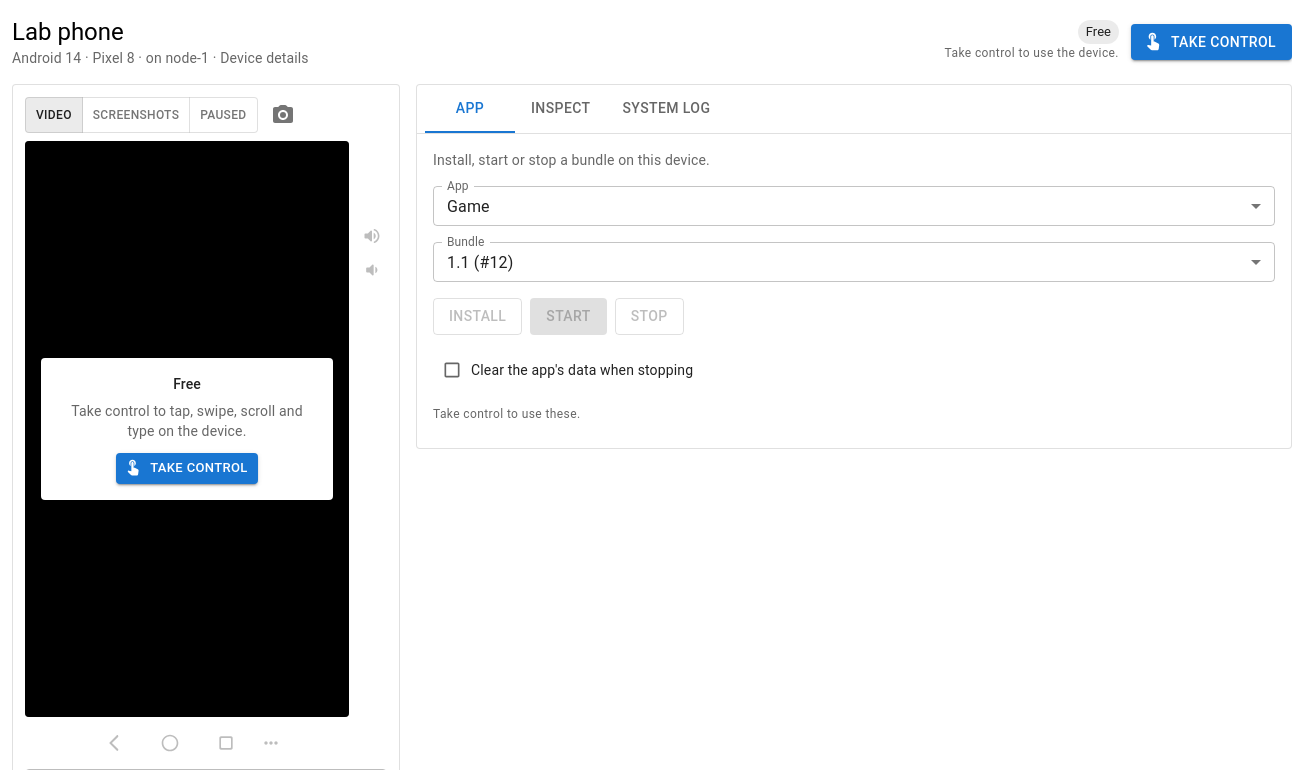
the control page: the system log › finds text and keeps only warnings and errors
expect the heading "Lab phone" is shown: met, box [12,18,124,46]
Click the tab "System log": click(666, 109) [606,85,726,133]
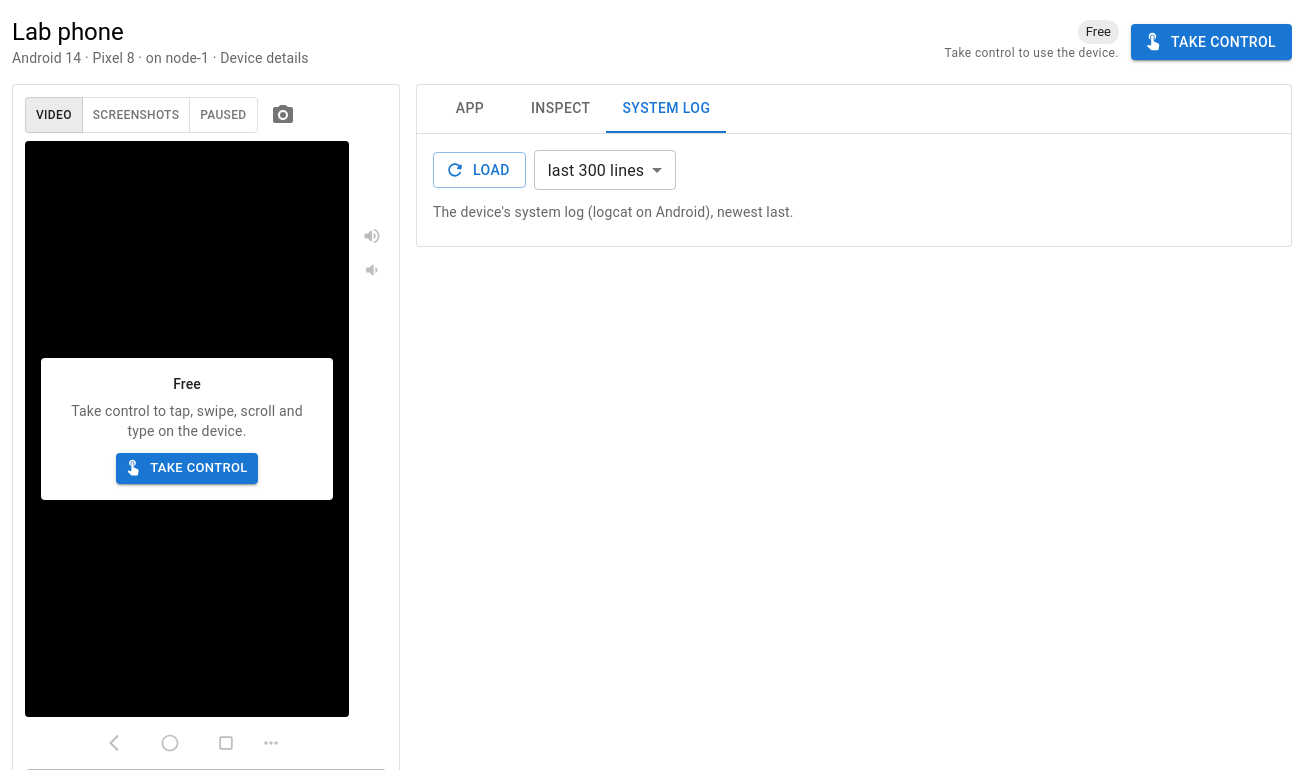
Click the button "Load": click(479, 170) [433,152,526,188]
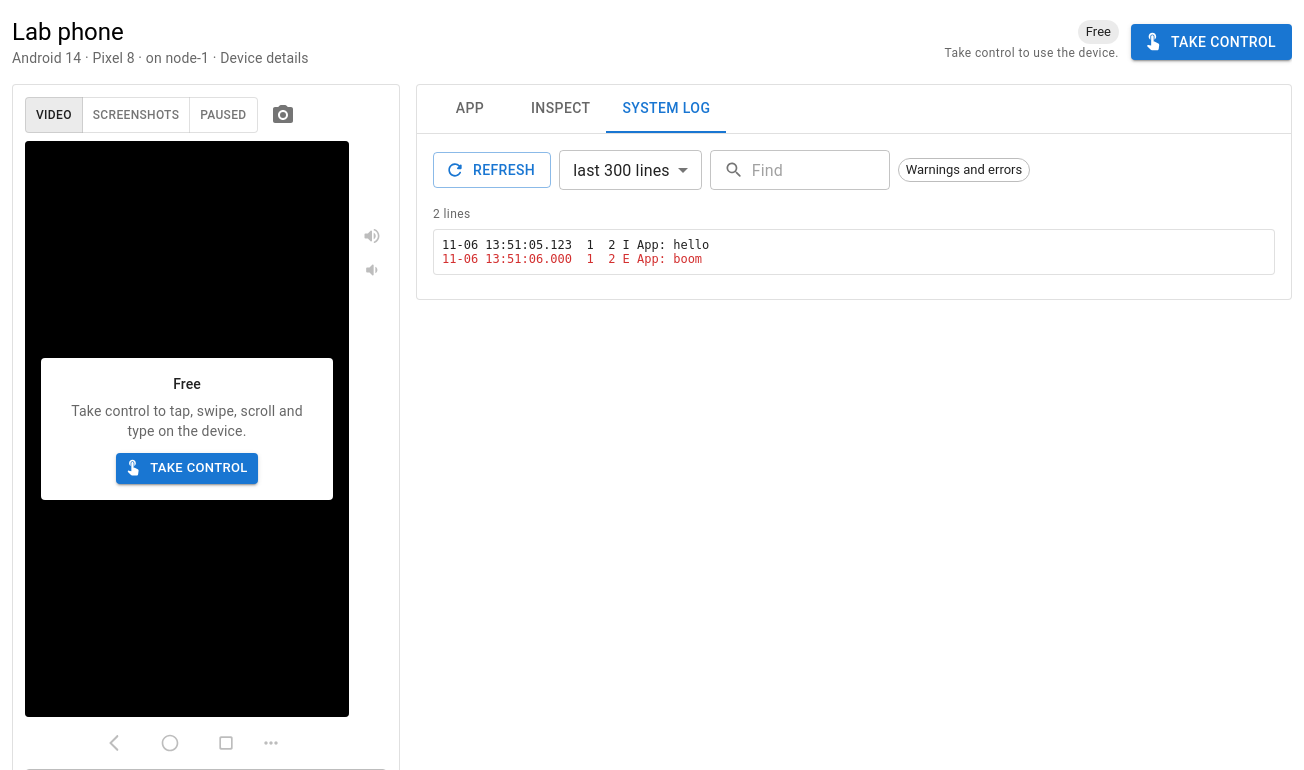
expect the text "2 lines" is shown: met, box [433,207,470,221]
In the field with placeholder "Find": (821, 170) [752,150,890,190], type "hello"
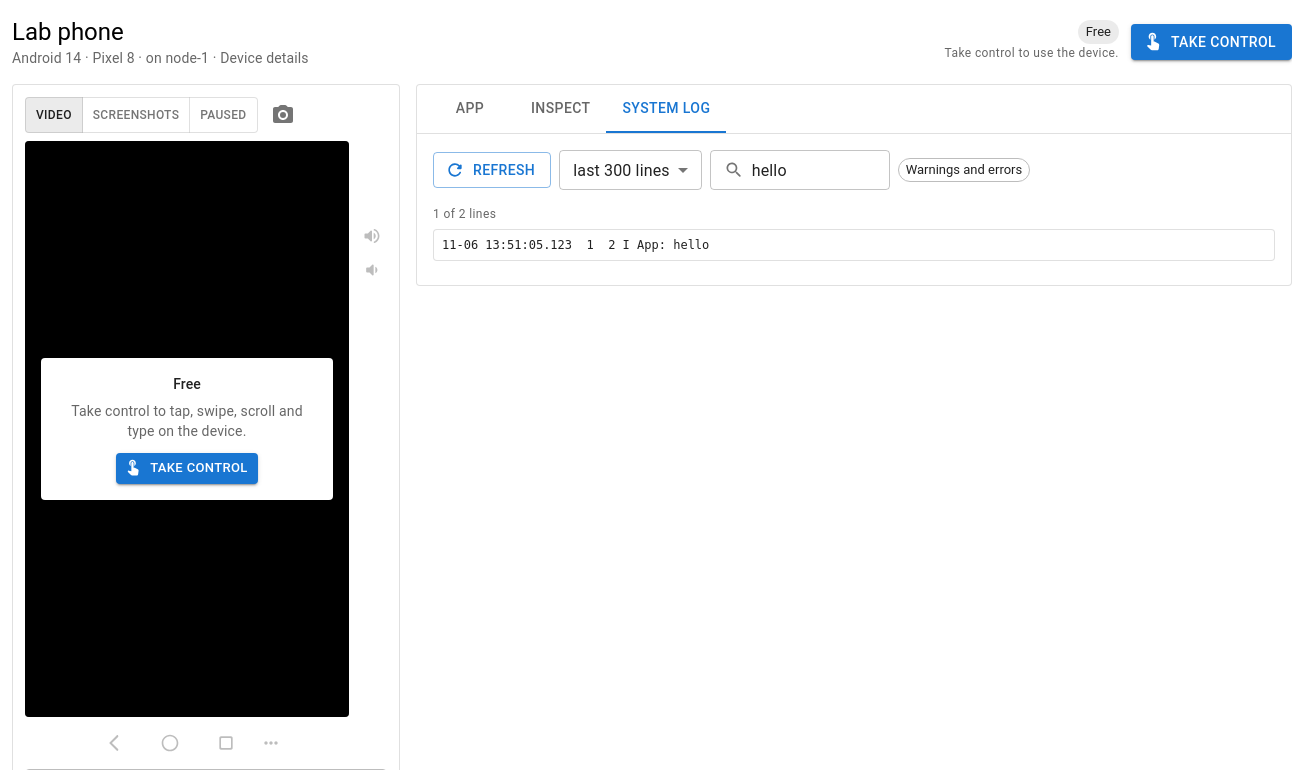
expect the text "1 of 2 lines" is shown: met, box [433,207,496,221]
Clear the field named "Find in the system log": (821, 170) [752,150,890,190]
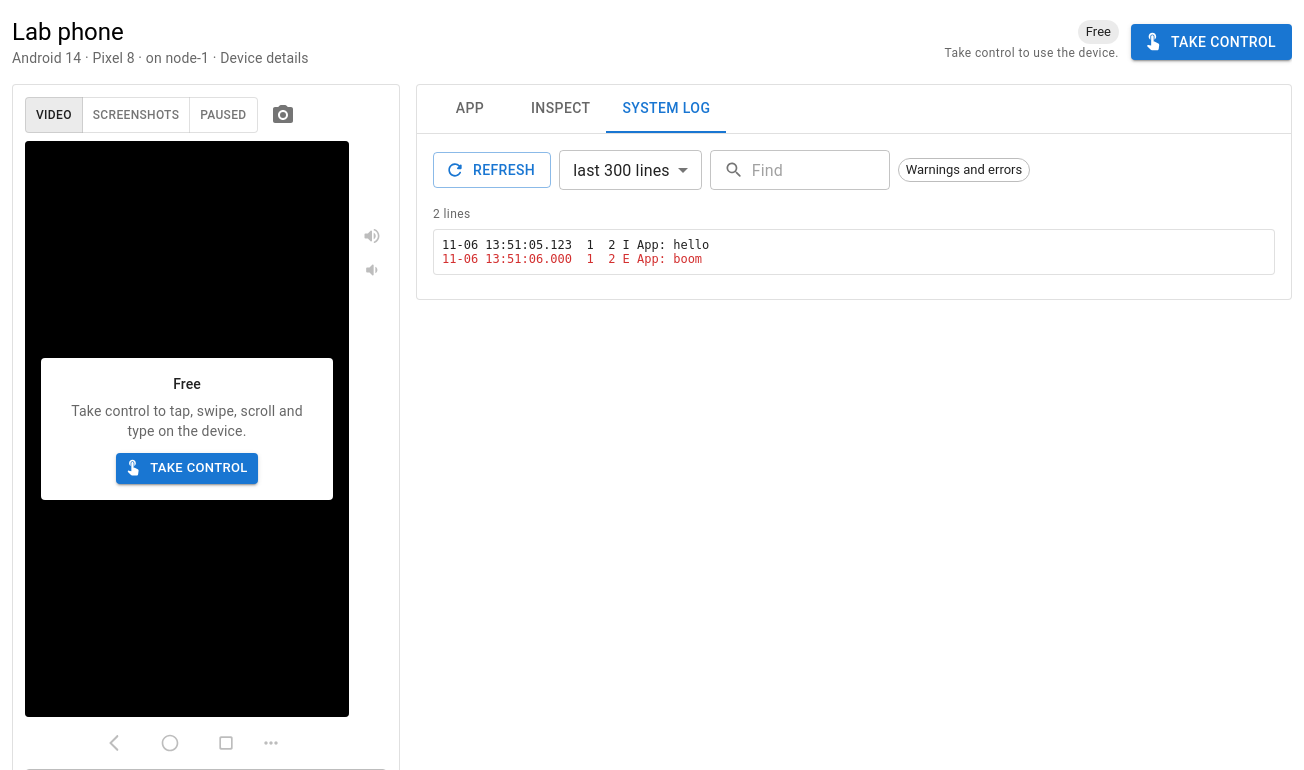
Click the button "Warnings and errors": click(964, 170) [898,158,1030,182]
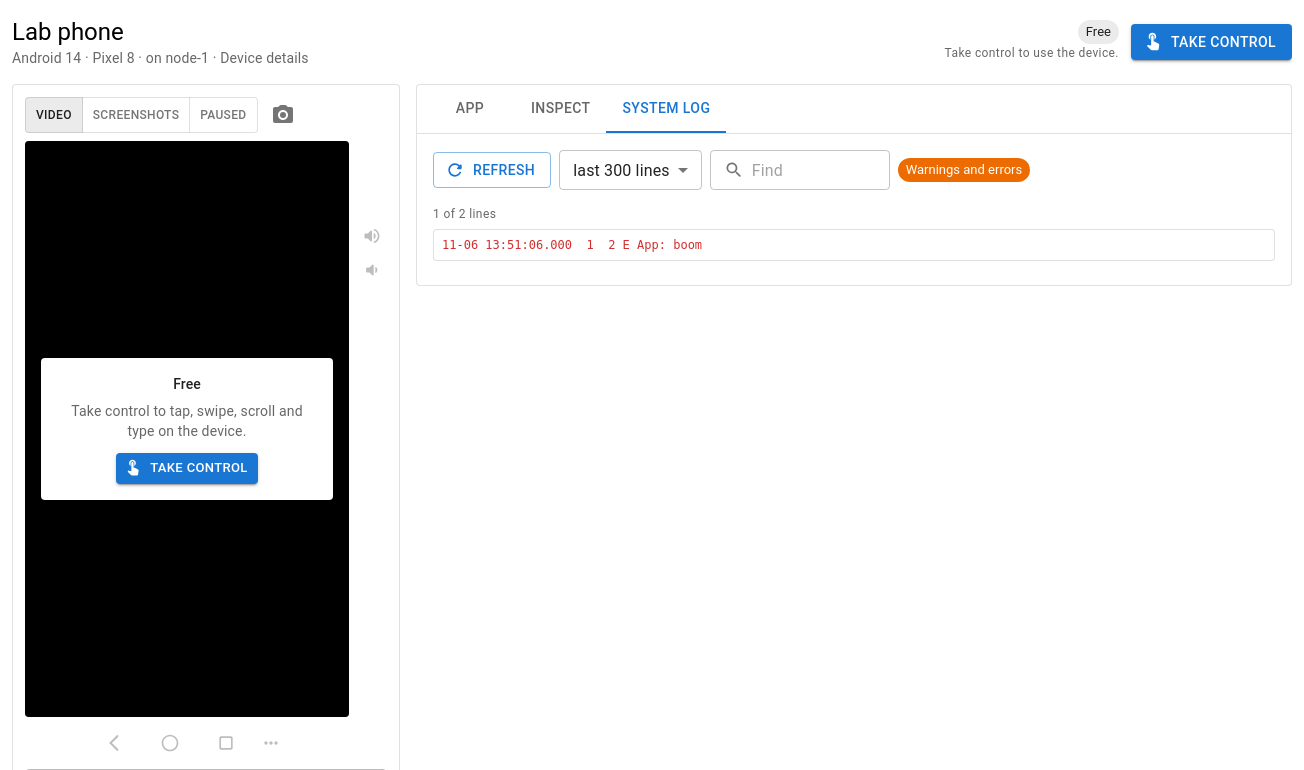
expect the text "11-06 13:51:06.000 1 2 E App: boom" is shown: met, box [442,238,702,252]
expect the text "hello" is gone: met
